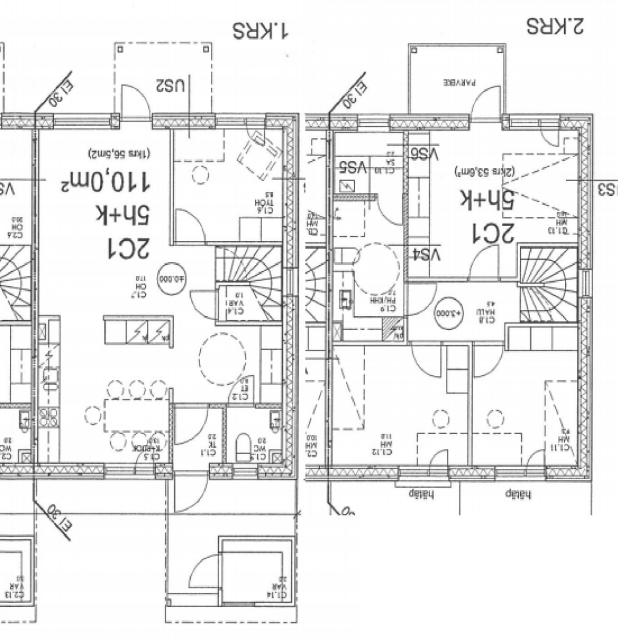door: (174, 464, 209, 518), (119, 77, 152, 129), (468, 78, 501, 130), (175, 403, 208, 445), (467, 240, 500, 282), (411, 342, 441, 379), (189, 555, 222, 588), (176, 208, 205, 245), (404, 284, 436, 316), (474, 342, 503, 377), (376, 193, 401, 229), (228, 374, 253, 409), (189, 290, 219, 319)
